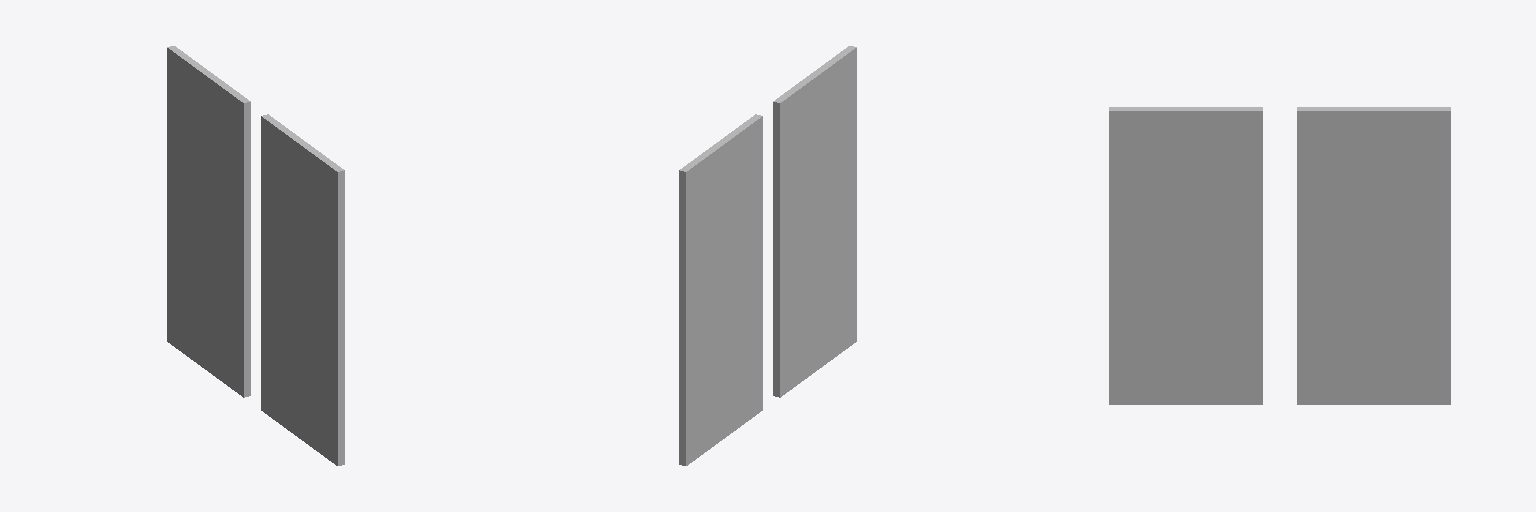
The model's file is puertas baño.obj.
3 renders of one model, left to right at view 1: azimuth 30°, elevation 25°; view 2: azimuth 150°, elevation 25°; view 3: azimuth 270°, elevation 25°, orthographic.
Parts seen in each view (by area): view 1: cafeteria:polySurface21 cafeteria:pCube44, cafeteria:pCube44 cafeteria:polySurface20; view 2: cafeteria:polySurface21 cafeteria:pCube44, cafeteria:pCube44 cafeteria:polySurface20; view 3: cafeteria:polySurface21 cafeteria:pCube44, cafeteria:pCube44 cafeteria:polySurface20.
Boxes of the visible parts, <box> form: cafeteria:polySurface21 cafeteria:pCube44: <box>167,46,250,397</box>; cafeteria:pCube44 cafeteria:polySurface20: <box>261,114,344,465</box>; cafeteria:polySurface21 cafeteria:pCube44: <box>679,114,762,465</box>; cafeteria:pCube44 cafeteria:polySurface20: <box>773,46,856,397</box>; cafeteria:polySurface21 cafeteria:pCube44: <box>1297,107,1450,404</box>; cafeteria:pCube44 cafeteria:polySurface20: <box>1109,107,1262,404</box>.
Size of the model in its own units: 1.09 by 42.44 by 44.56.